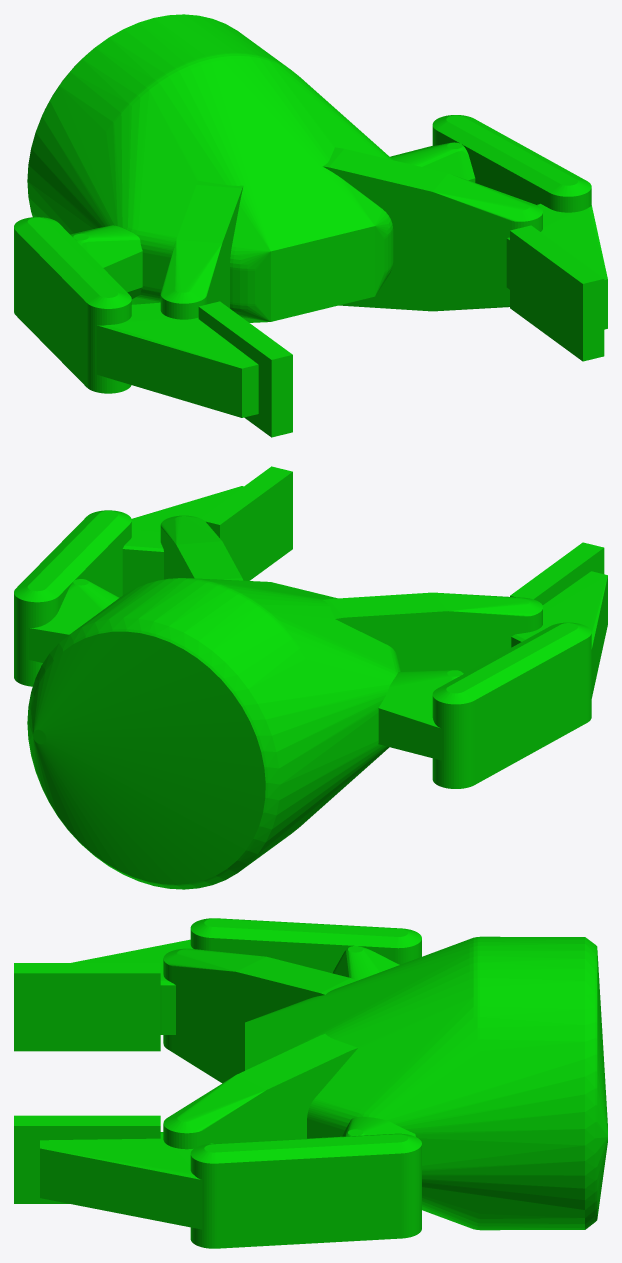
The model's file is coll_mesh.obj.
The picture shows the model from 3 angles, top to bottom: view 1: azimuth 30°, elevation 25°; view 2: azimuth 150°, elevation 25°; view 3: azimuth 270°, elevation 25°; orthographic projection.
Size of the model in its own units: 0.1484 by 0.075 by 0.1518.
